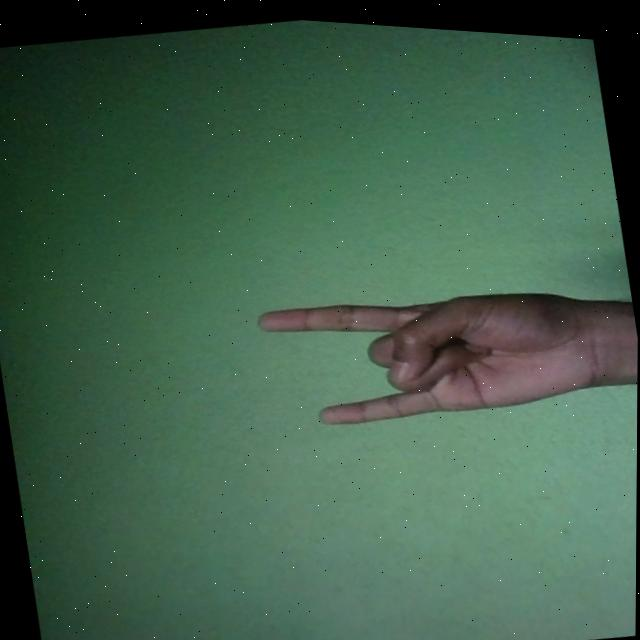Rock On: (256, 253, 618, 446)
